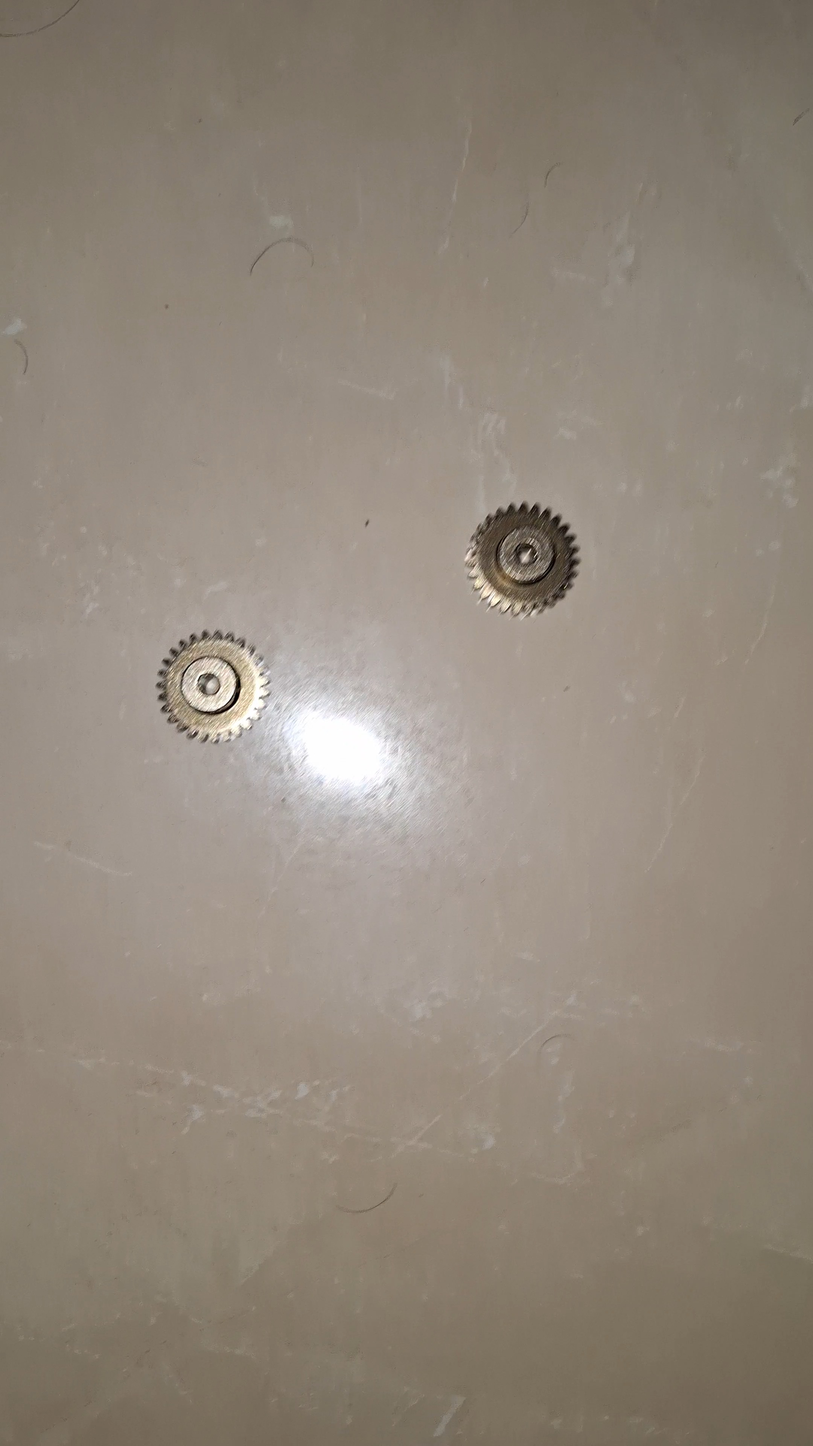spur gear: (466, 503, 578, 616), (157, 631, 268, 742)
